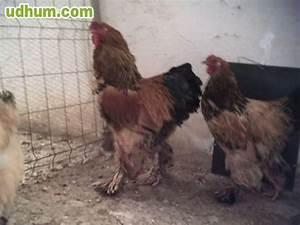hen: (90, 61, 203, 195), (199, 53, 295, 204), (0, 88, 25, 224)
